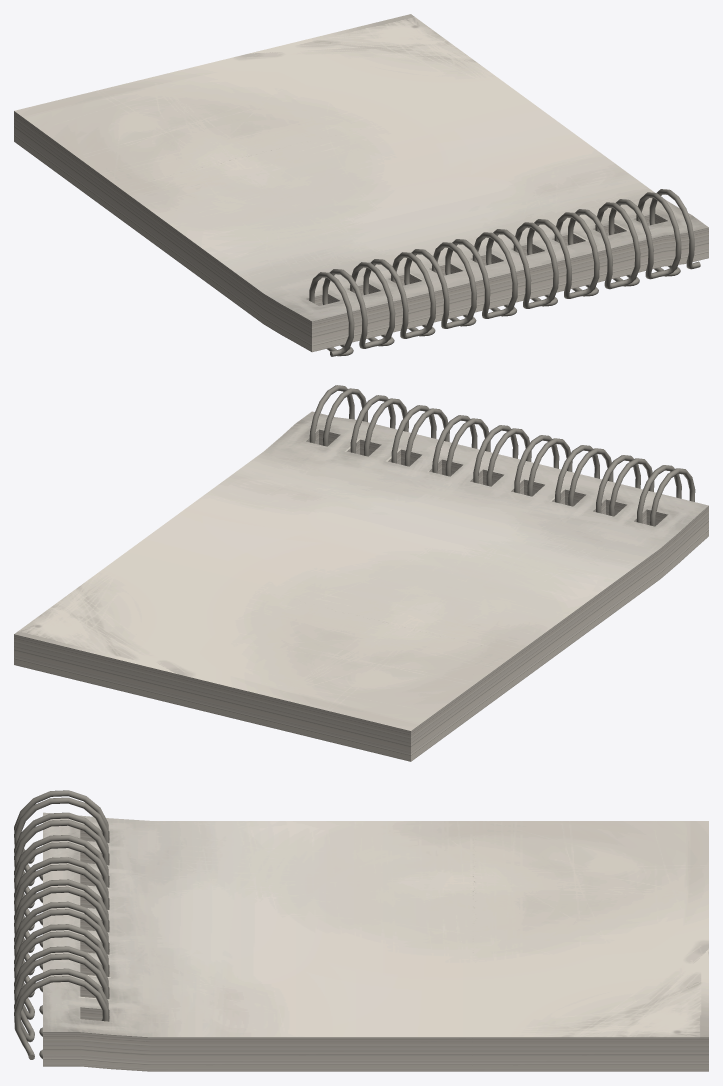
Rendered from NotePad_exp.fbx.
The picture shows the model from 3 angles, top to bottom: view 1: azimuth 30°, elevation 25°; view 2: azimuth 150°, elevation 25°; view 3: azimuth 270°, elevation 25°; orthographic projection. The views are drawn at different scales.
Parts seen in each view (by area): view 1: Torus.002, Torus.003; view 2: Torus.002, Torus.003; view 3: Torus.002, Torus.003.
Part boxes in pixels (<box>): Torus.002: <box>14,14,708,352</box>; Torus.003: <box>309,189,700,356</box>; Torus.002: <box>14,411,708,761</box>; Torus.003: <box>309,385,695,526</box>; Torus.002: <box>43,812,708,1071</box>; Torus.003: <box>14,790,109,1059</box>.
Size of the model in its own units: 800 by 148 by 1085.
